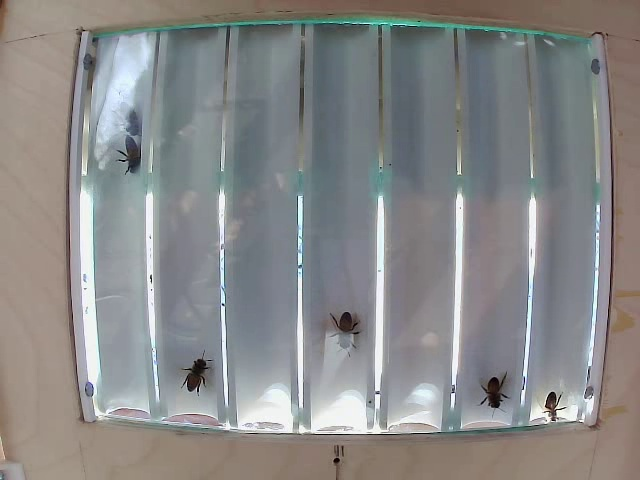bee: (123, 130, 157, 169), (538, 384, 571, 424), (480, 381, 518, 412), (322, 319, 358, 350), (180, 367, 216, 397)
